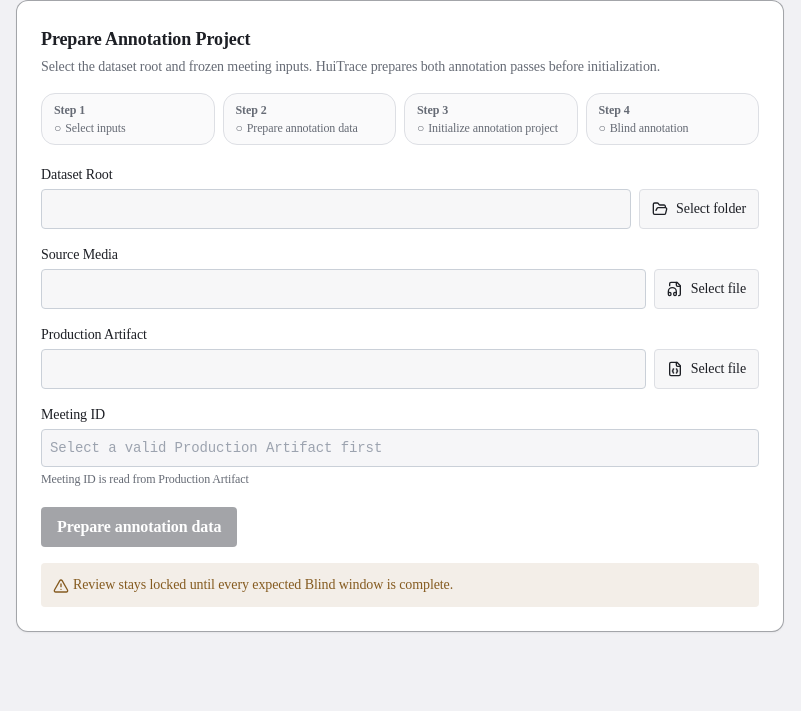
Scenario: shows invalid Artifact errors and keeps preparation disabled
The width and height of the screenshot is (801, 711).
Click the 2nd button "Select file" at [706, 369], box [654,349,759,389]
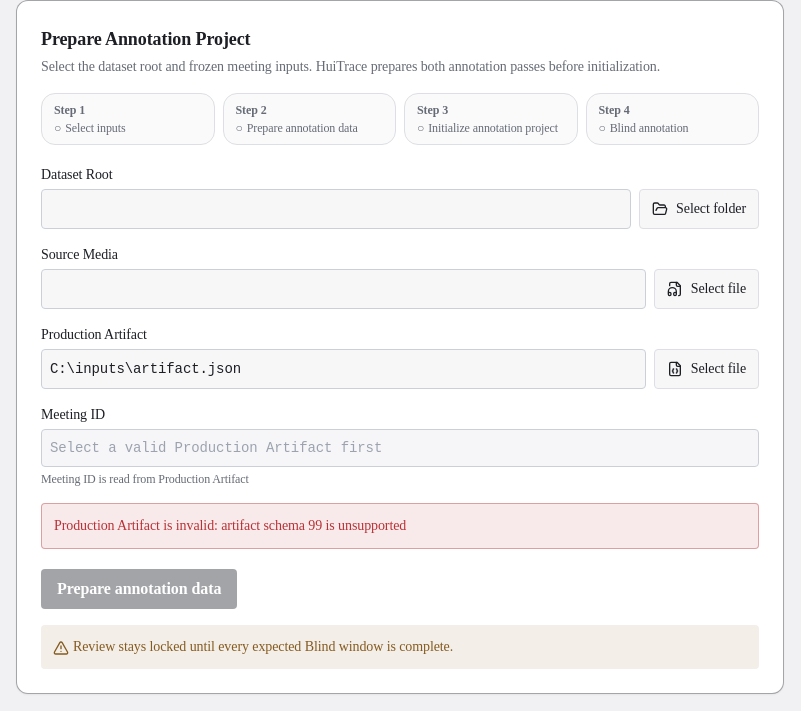
Expected: the button "Prepare annotation data" is disabled, [41,569,237,609]
Expected: the message shows "Production Artifact is invalid", [54,518,406,533]
